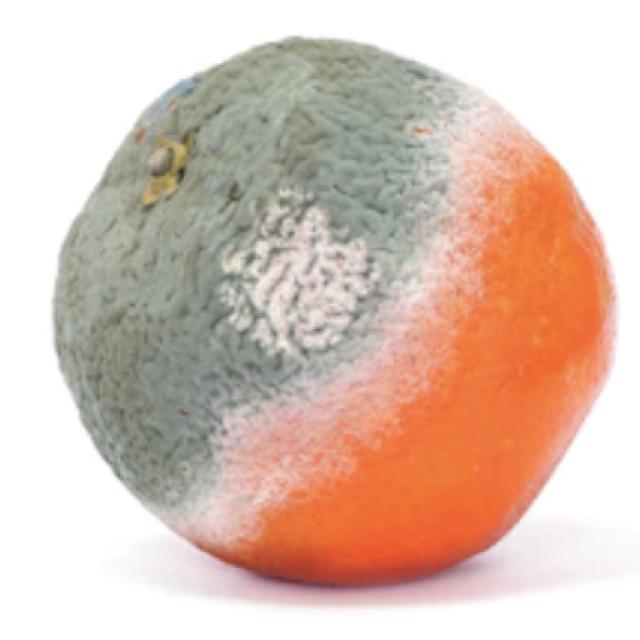sangat-busuk: (54, 37, 614, 581)
